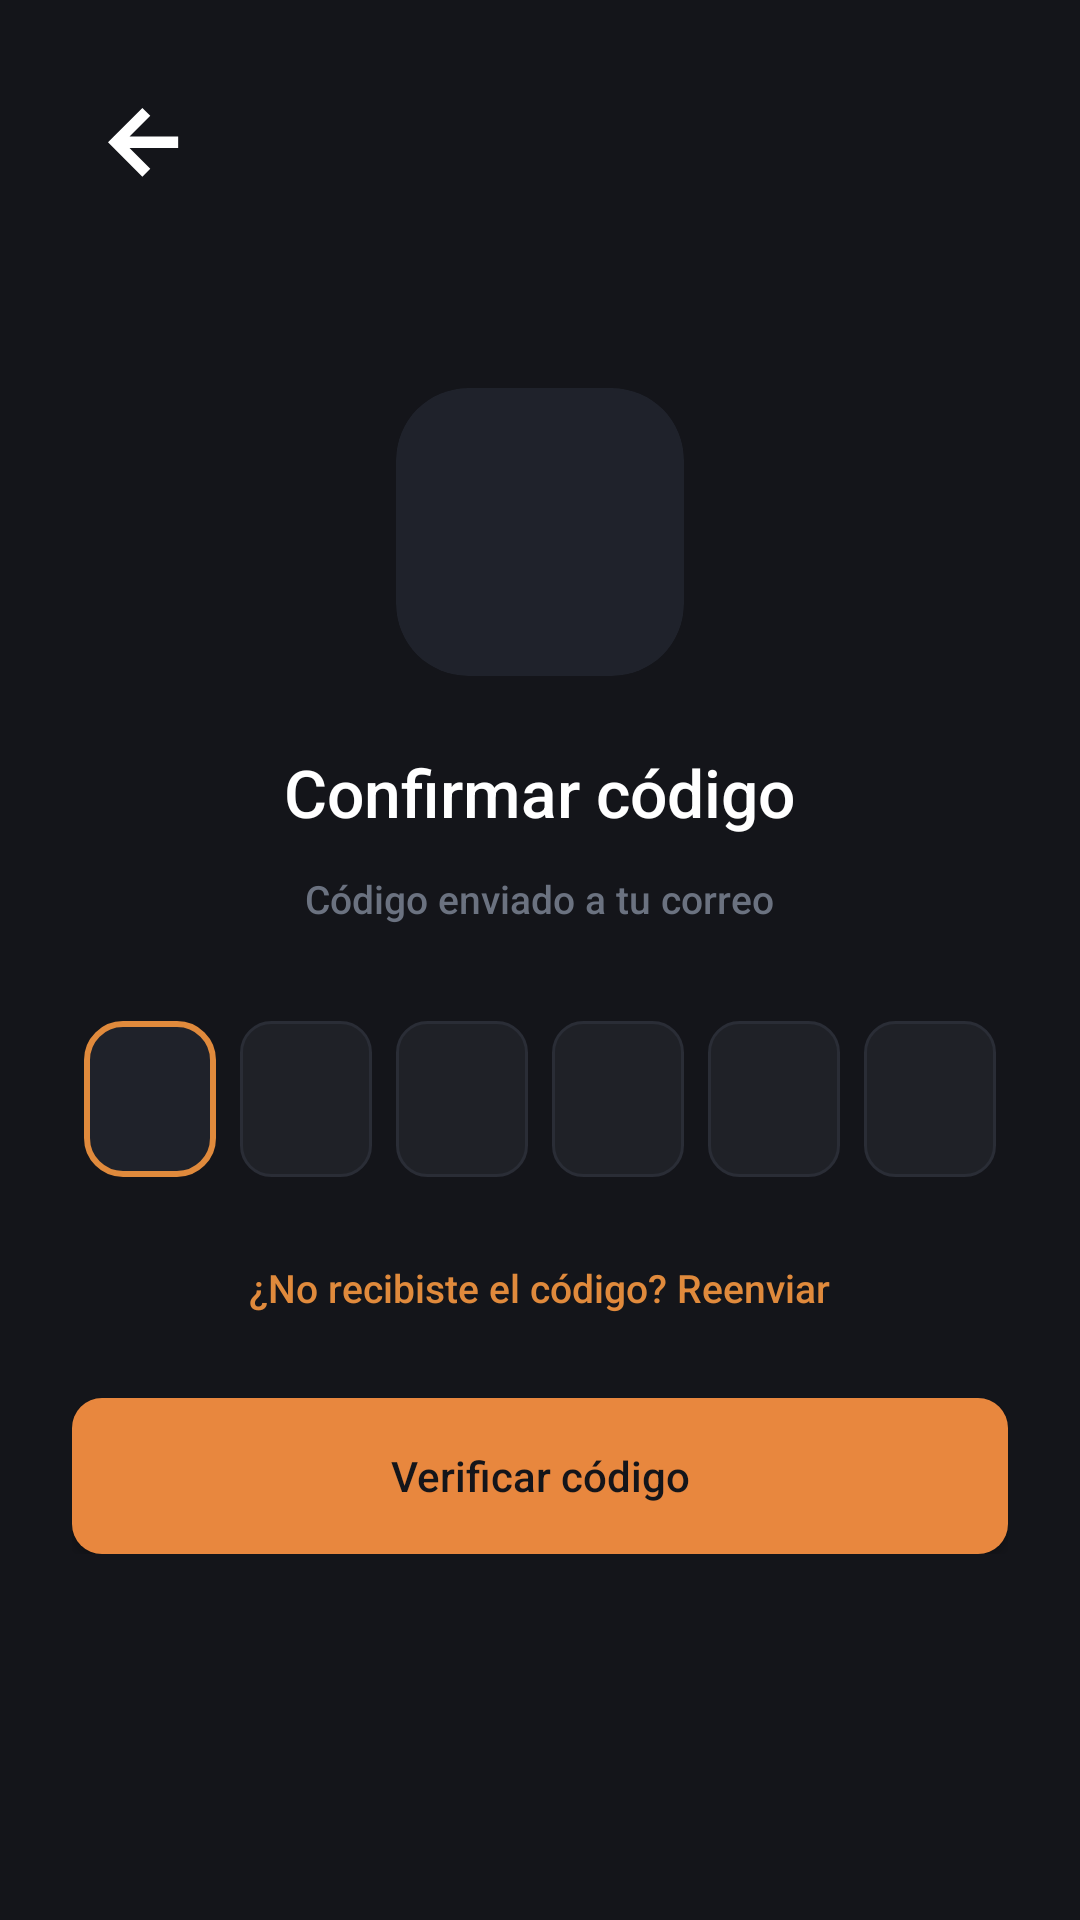

Locate icon controls on the screen. Image size 1080w x 1920h, boxes as (x1, y1, x2, y2).
Volver: (108, 108, 179, 177)
